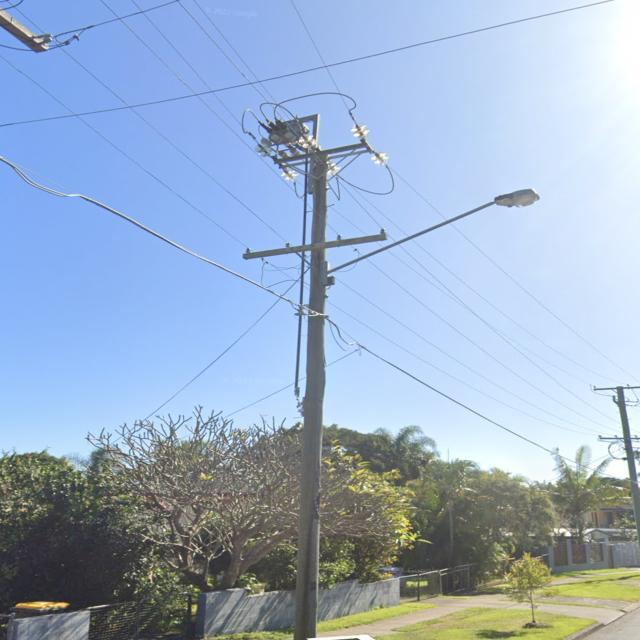HV-switch: (258, 115, 312, 154)
HV-transmission: (278, 113, 390, 183)
crossarm: (241, 233, 388, 260), (0, 6, 48, 53), (274, 142, 366, 164), (278, 150, 374, 170), (593, 386, 640, 391), (597, 437, 640, 440)
streetlight: (323, 188, 541, 278)
timber-pole: (290, 153, 328, 639), (614, 385, 640, 547)
